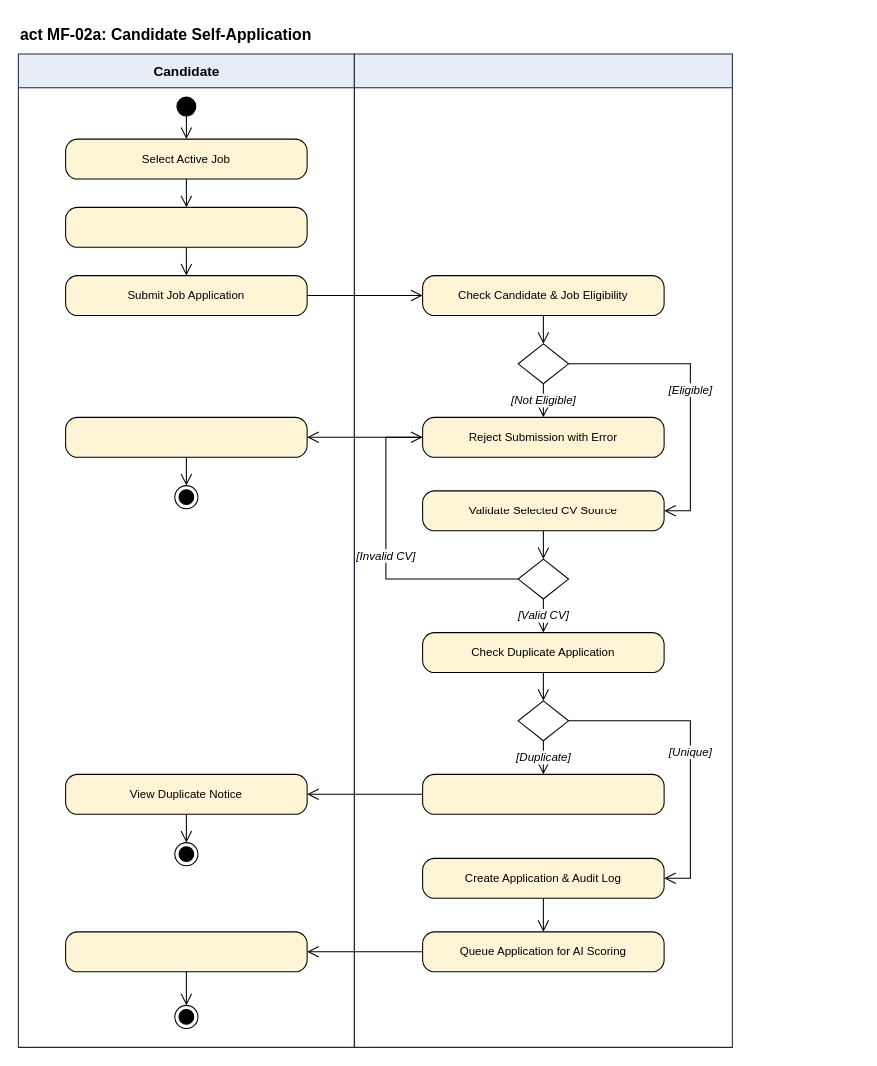
Some shapes in this 877 by 1066 pixel diagram are drawn without their labels. The box of each missing label's shape, as (x1, y1, x2, y2) in pixels:
HR Connect System: (353, 53, 732, 1047)
Record Duplicate & Clean Up Temp CV: (422, 773, 664, 814)
Select or Upload CV: (65, 206, 307, 247)
Track Application Status: (65, 931, 307, 972)
View Submission Error: (65, 416, 307, 457)
